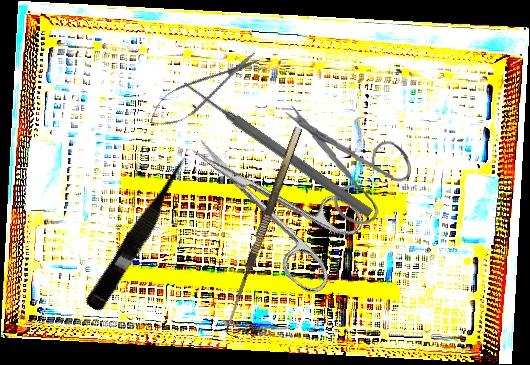Hook Surgical: (220, 126, 314, 339)
Iris Scissors: (167, 105, 376, 299), (277, 104, 414, 227)
Micro Scissor: (83, 150, 200, 316), (141, 42, 267, 137)
Pusher: (180, 77, 375, 220)
